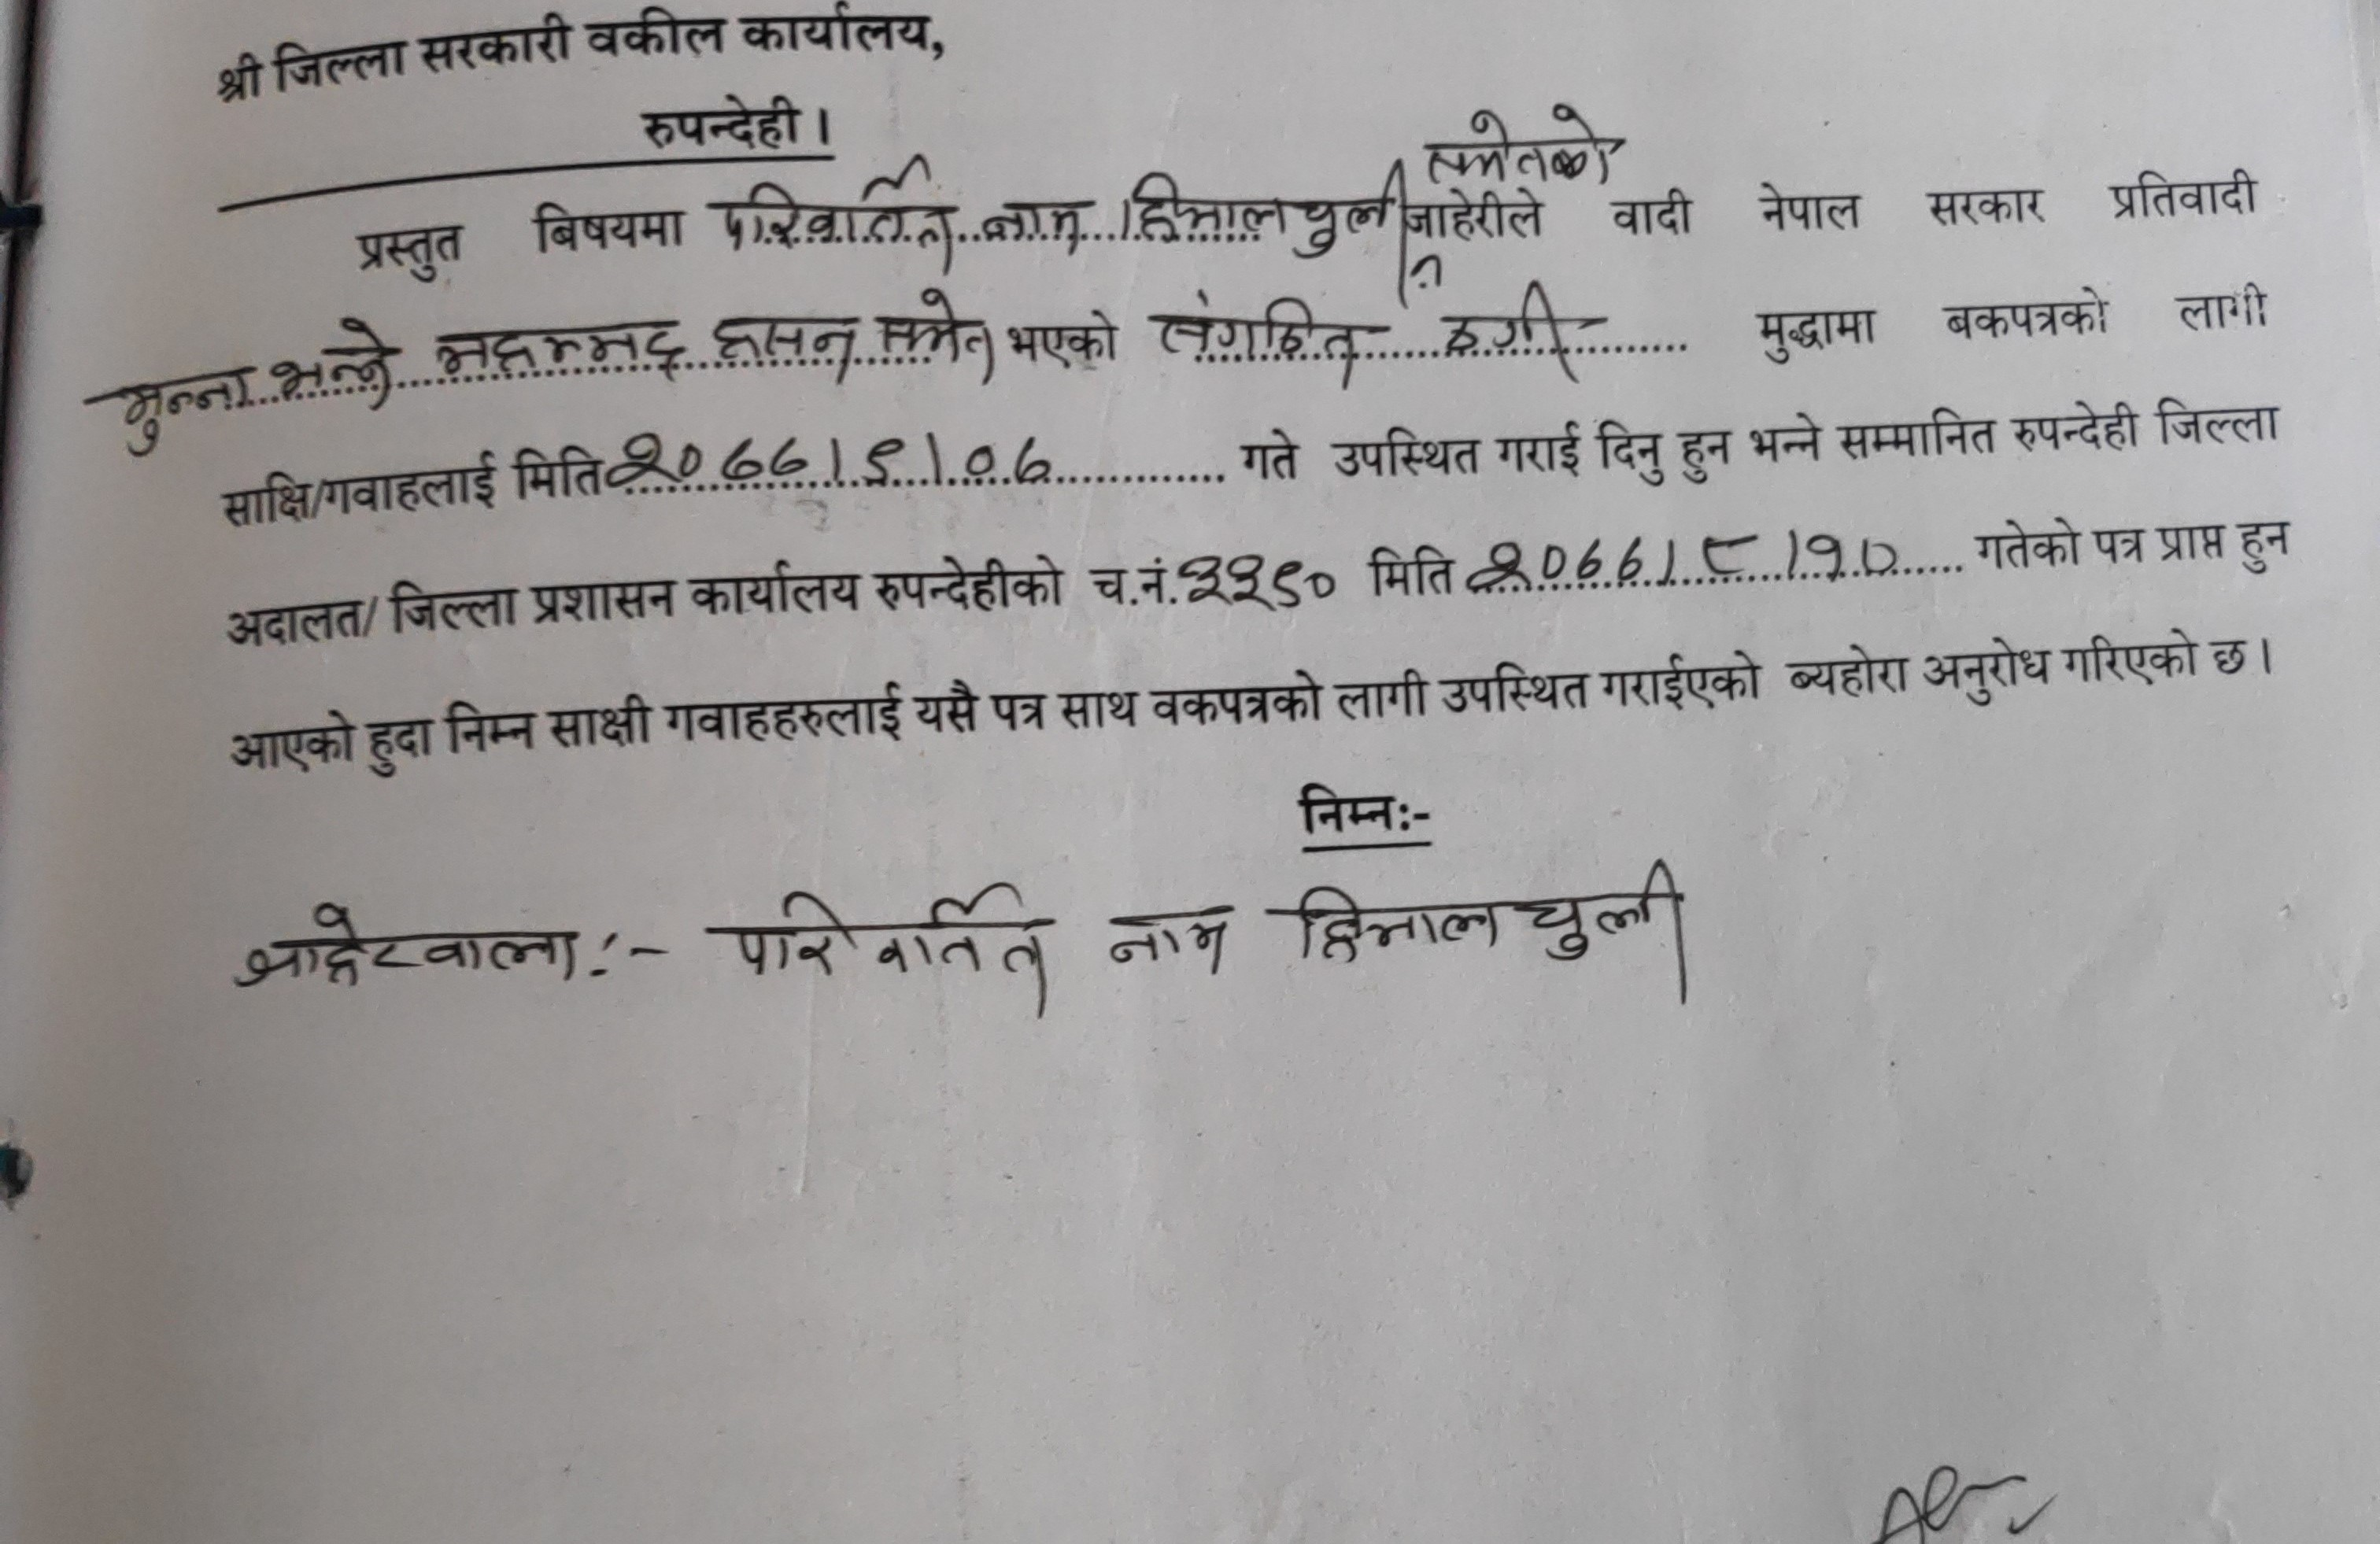text: (699, 876, 1056, 1027), (229, 897, 588, 1008), (1115, 160, 1416, 290), (1464, 522, 1912, 599), (604, 425, 1070, 494), (1501, 857, 1697, 1004), (709, 163, 961, 278), (1133, 288, 1379, 392), (1263, 878, 1506, 972), (420, 314, 689, 390), (1433, 274, 1594, 390), (1407, 102, 1629, 184), (90, 361, 258, 460), (871, 281, 1001, 390), (264, 312, 404, 409), (701, 298, 860, 383), (1171, 540, 1348, 611), (1096, 897, 1235, 985), (977, 193, 1093, 258)
